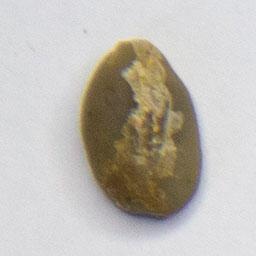premium: (76, 34, 208, 224)
